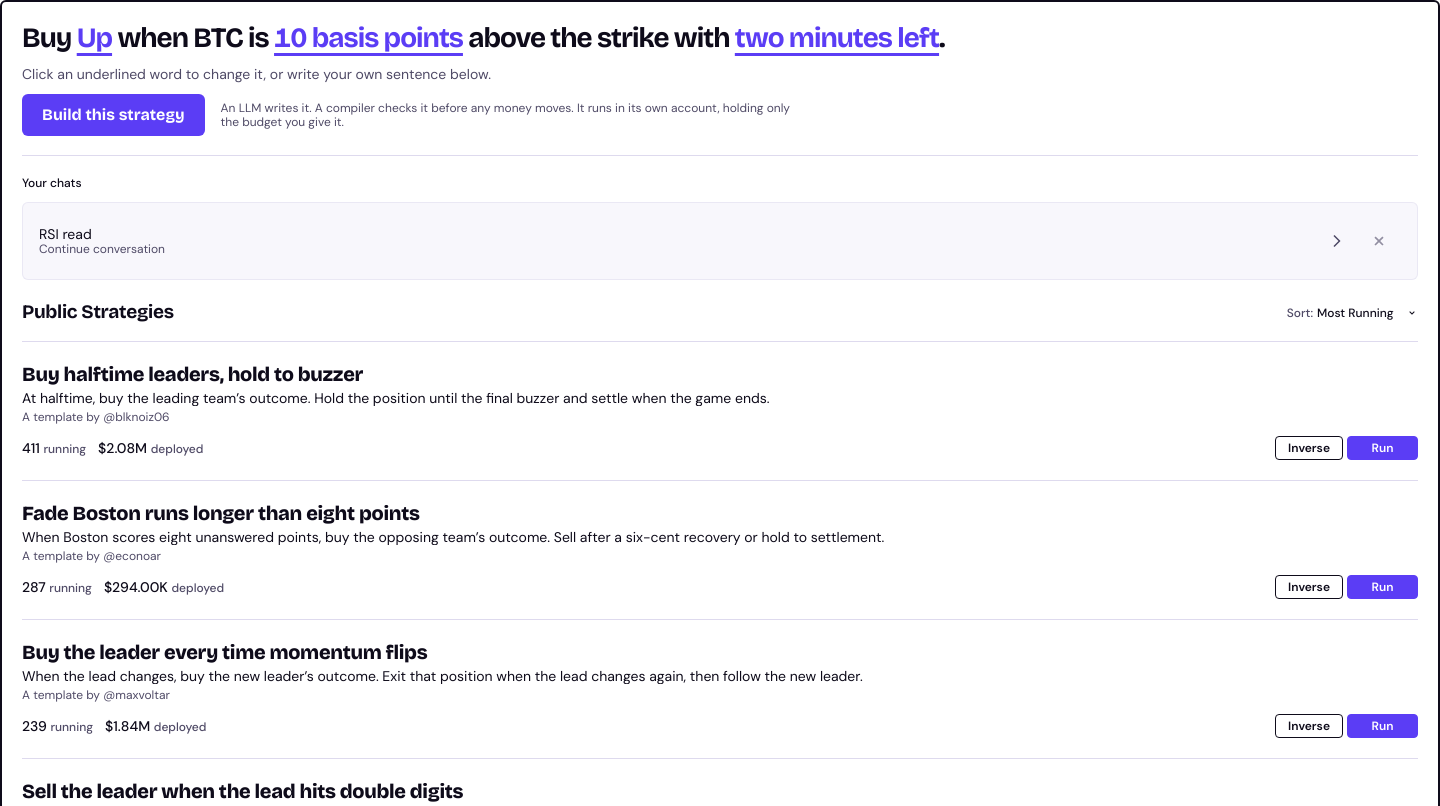
Test: widgets in the transcript › draws the widget again when a saved chat is reopened
The width and height of the screenshot is (1440, 806).
Click the button with aria-label "Open chat: RSI read" at (65, 234), box [39,219,1349,263]
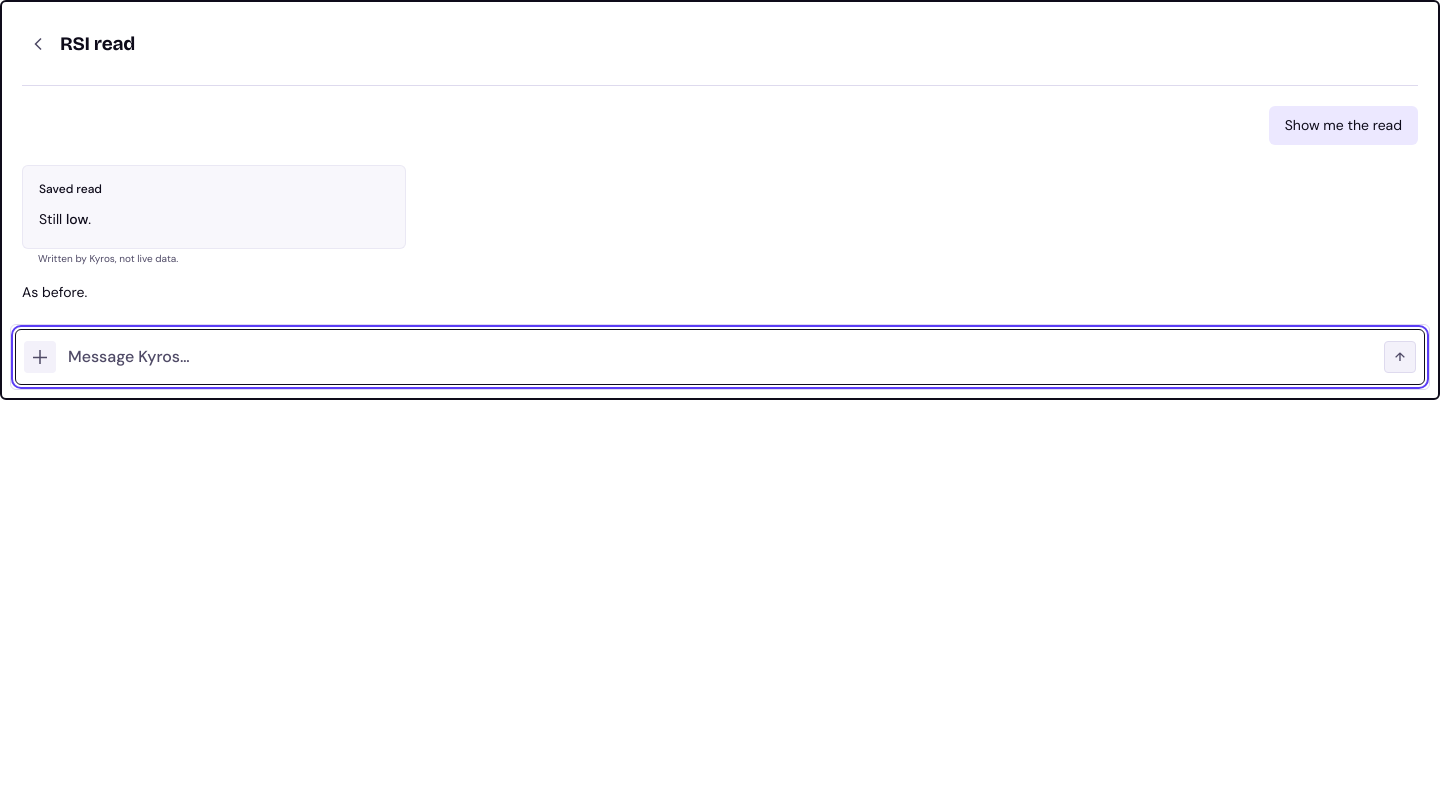
Check: the element "Saved read" is shown, box [22,165,406,249]
Check: the text "As before." is shown, box [22,282,87,300]
